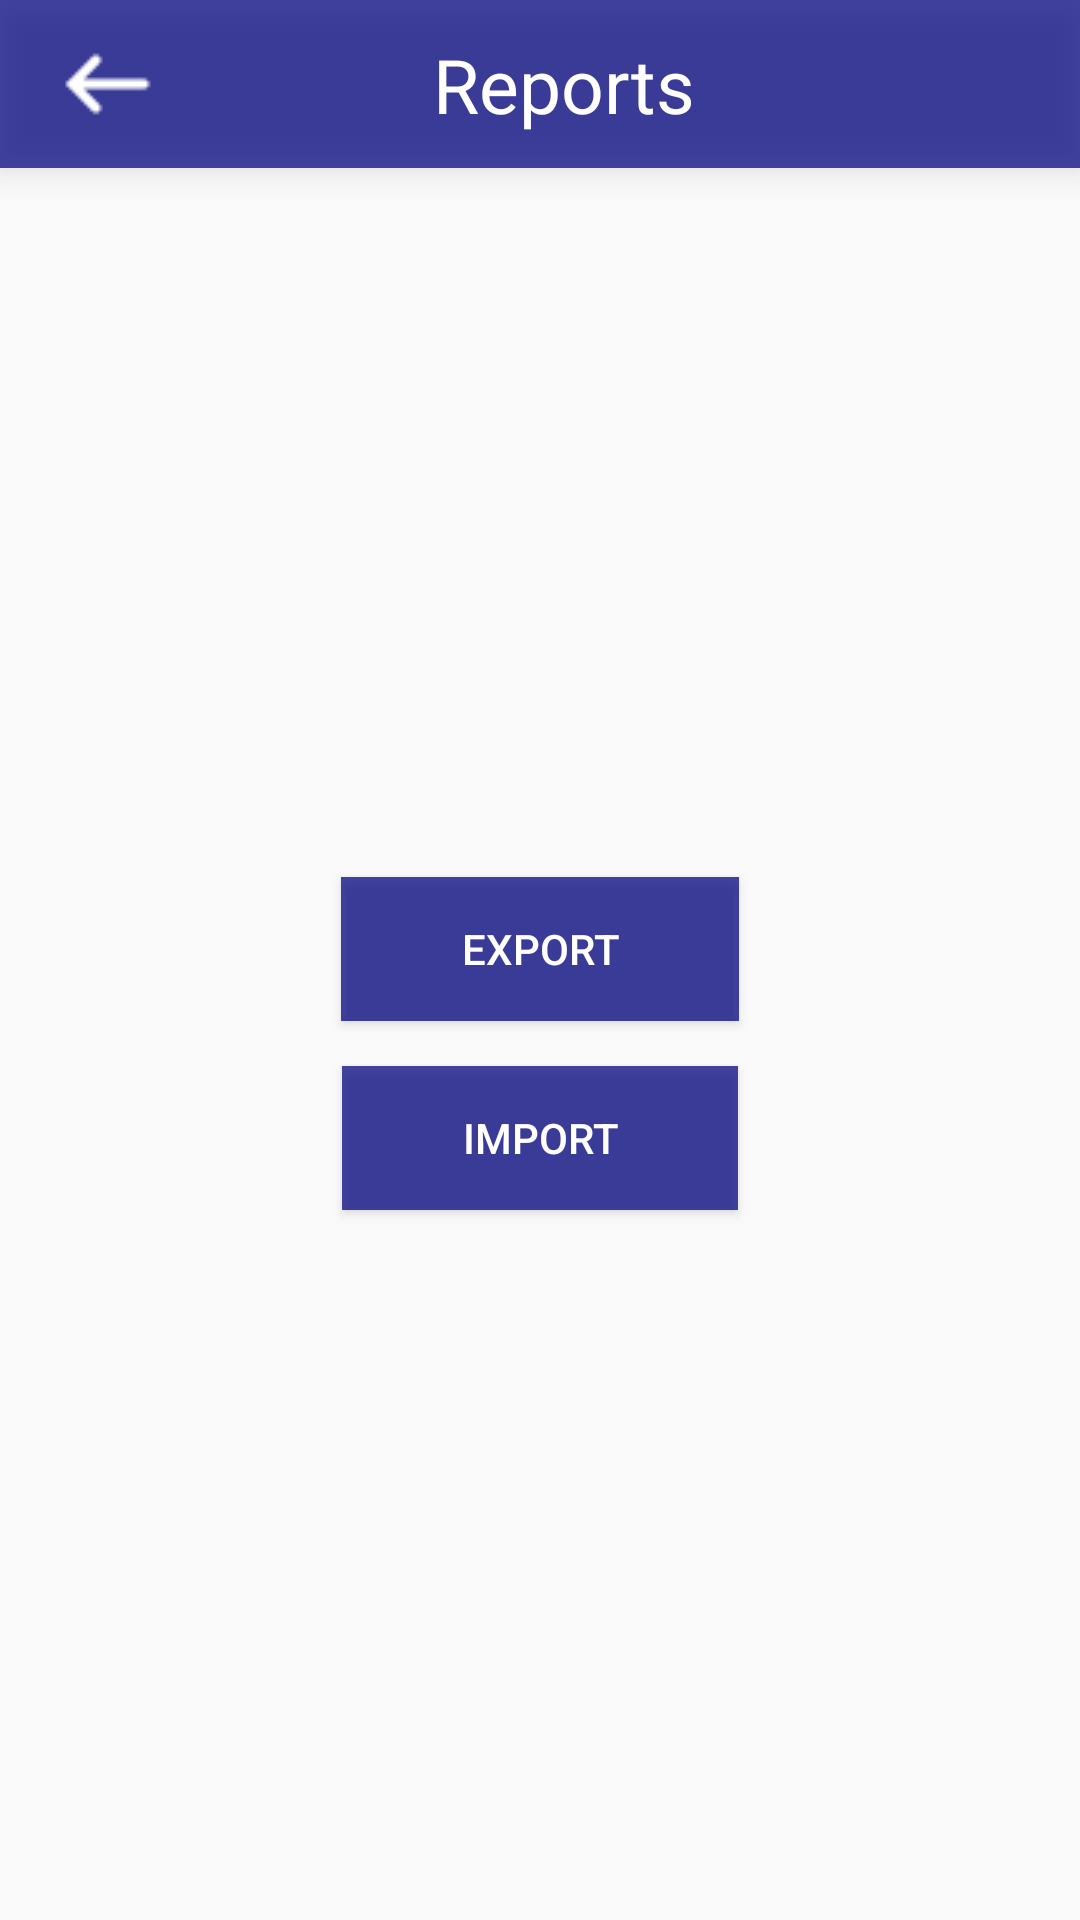

Named icons in this screenshot (1080×1920) and their centers, point (x, y):
back arrow: point (108, 84)
